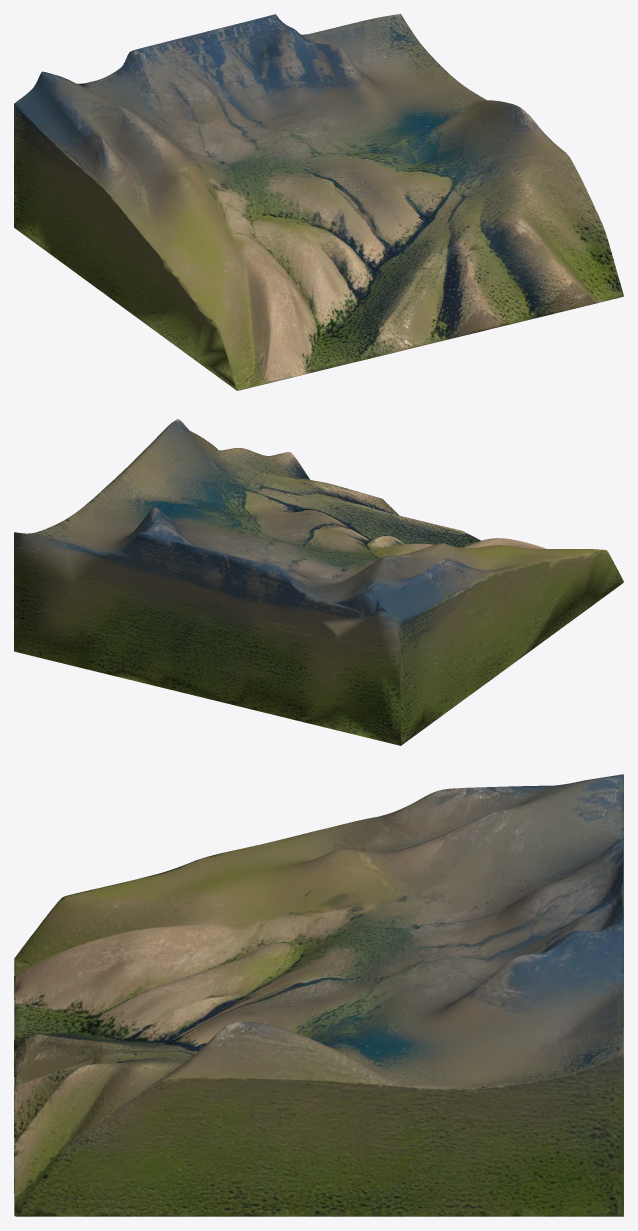
File: TableMountain.glb
3 renders of one model, top to bottom at view 1: azimuth 30°, elevation 25°; view 2: azimuth 150°, elevation 25°; view 3: azimuth 270°, elevation 25°, orthographic. The views are drawn at different scales.
Visible parts, largest first — view 1: node_0; view 2: node_0; view 3: node_0.
Part boxes in pixels (<box>): node_0: <box>14,14,623,390</box>; node_0: <box>14,419,623,745</box>; node_0: <box>14,774,623,1216</box>.
Bounding box in the file's own units: 0.8211 × 0.3039 × 0.8214.
1 material, 1 textured.
